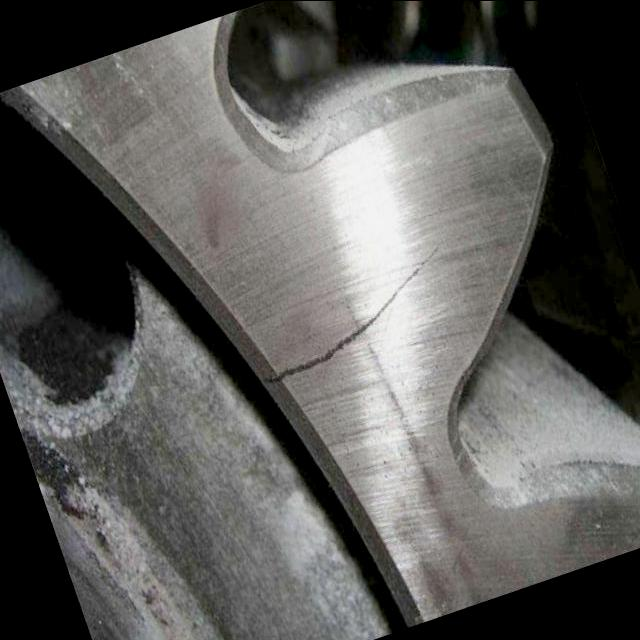defect: (254, 240, 442, 390)
